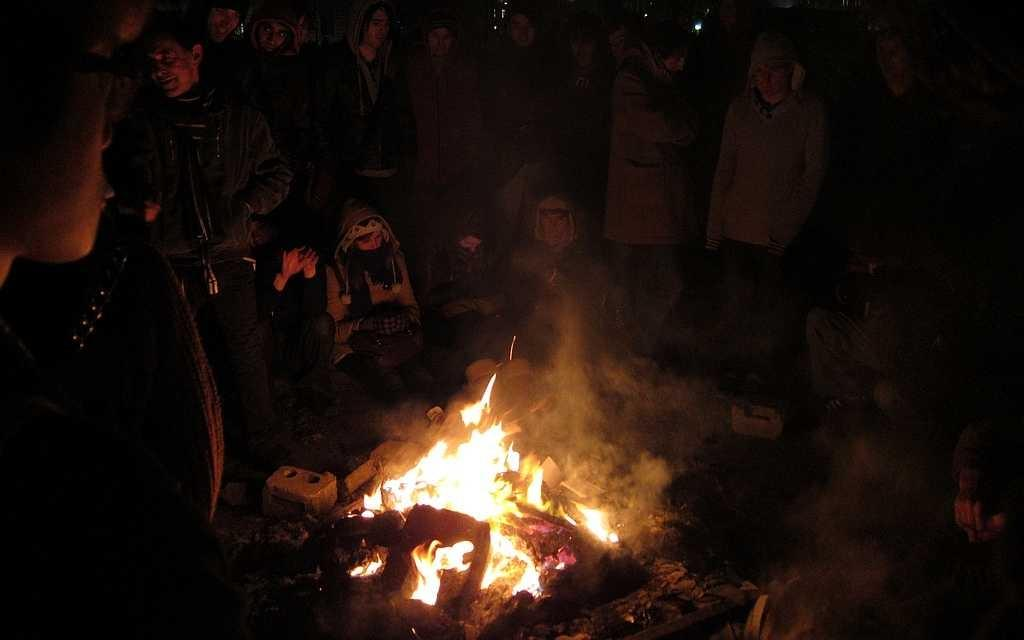fire: (402, 418, 540, 540)
